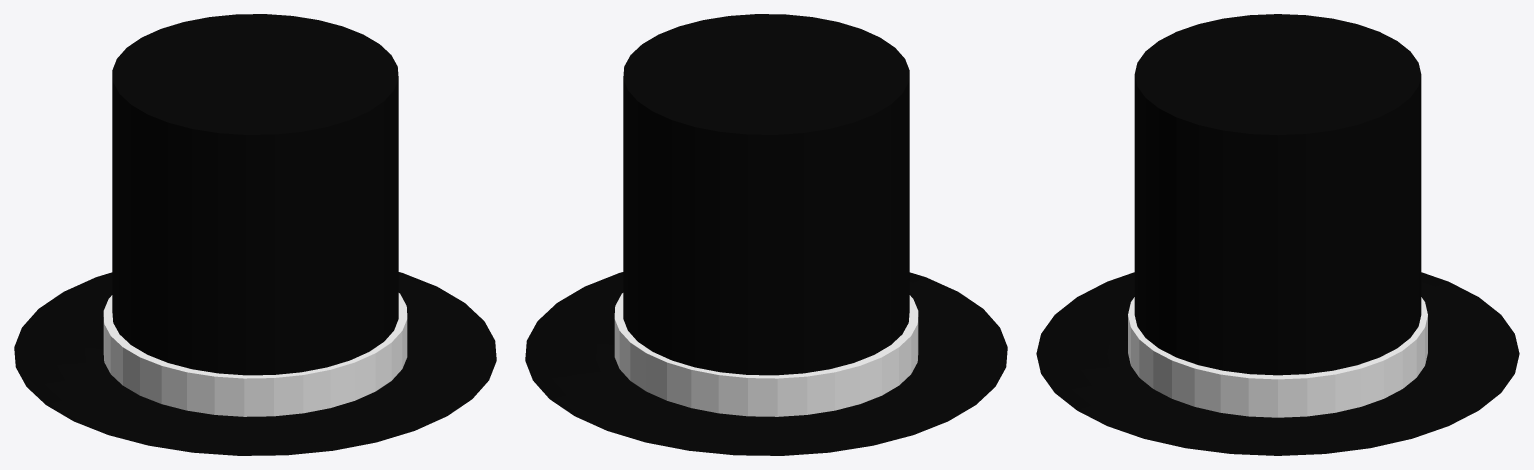
File: Top Hat.fbx
3 views of the same model, side by side, from view 1: azimuth 30°, elevation 25°; view 2: azimuth 150°, elevation 25°; view 3: azimuth 270°, elevation 25° (orthographic).
Parts seen in each view (by area): view 1: Cylinder, Sphere, Cylinder.001; view 2: Cylinder, Sphere, Cylinder.001; view 3: Cylinder, Sphere, Cylinder.001.
Part boxes in pixels (x1,y1,x2,y2): Cylinder: (112,14,398,375); Sphere: (14,272,496,455); Cylinder.001: (103,293,407,416); Cylinder: (623,14,909,375); Sphere: (525,272,1007,455); Cylinder.001: (614,293,918,416); Cylinder: (1134,14,1421,375); Sphere: (1036,272,1519,455); Cylinder.001: (1128,297,1427,417).
Size of the model in its own units: 209 by 134 by 209.
Materials: 3 (3 with a texture image).
